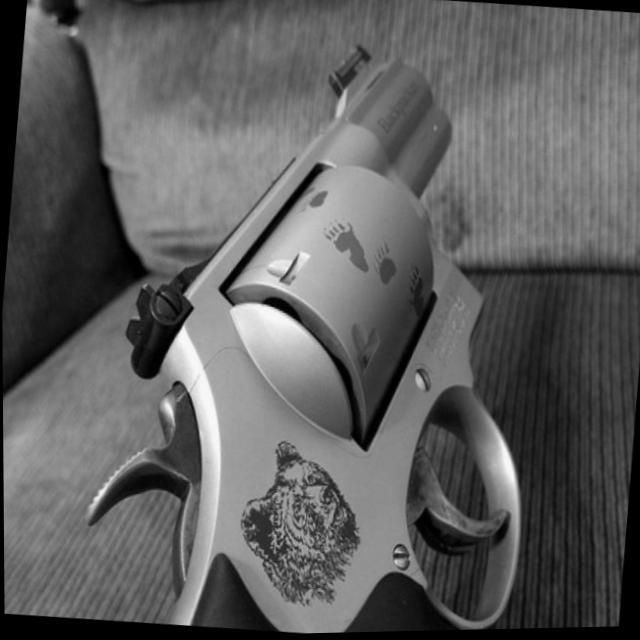weapon: (70, 17, 564, 639)
